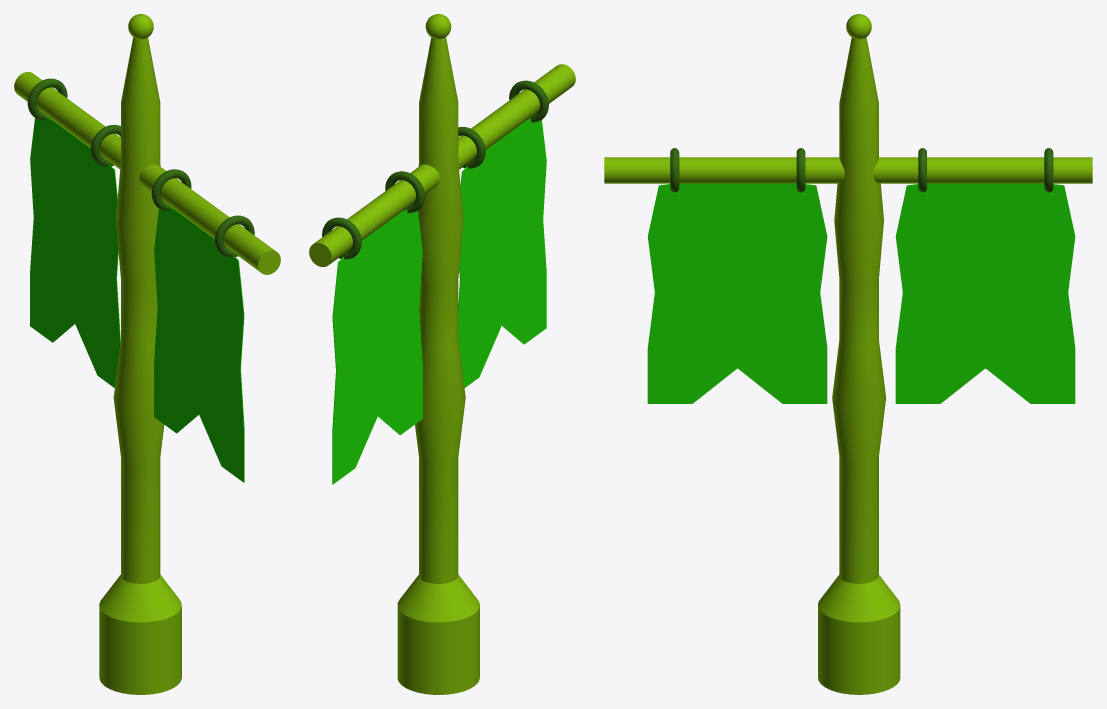
Rendered from F_Flagaa.fbx.
3 renders of one model, left to right at view 1: azimuth 30°, elevation 25°; view 2: azimuth 150°, elevation 25°; view 3: azimuth 270°, elevation 25°, orthographic.
Parts seen in each view (by area): view 1: F_Flaga; view 2: F_Flaga; view 3: F_Flaga.
Part boxes in pixels (left/top/right/bottom): F_Flaga: left=14, top=14, right=280, bottom=694; F_Flaga: left=309, top=14, right=575, bottom=694; F_Flaga: left=604, top=14, right=1092, bottom=694.
Size of the model in its own units: 67.33 by 596 by 398.
